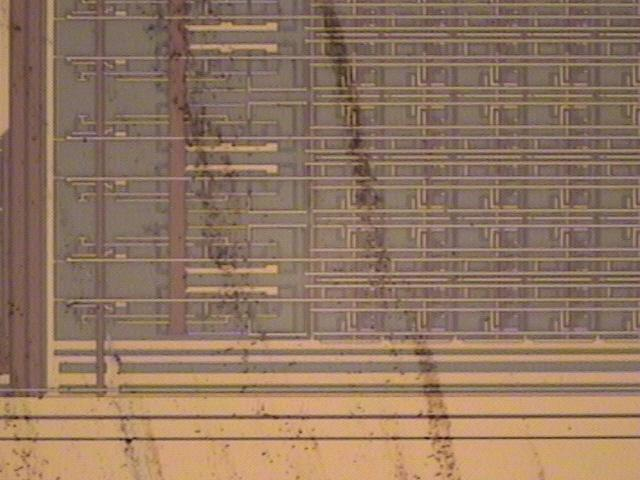SCRATCH: (1, 1, 472, 480)
